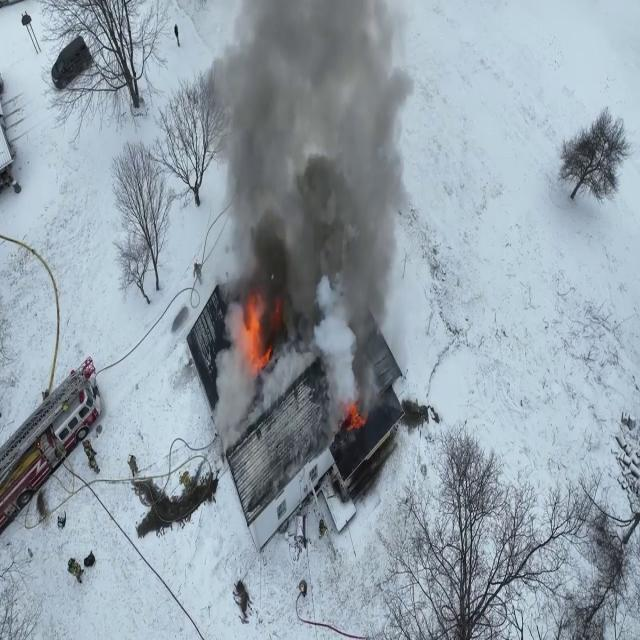Fire: (230, 282, 274, 378)
Smoke: (196, 1, 442, 420)
